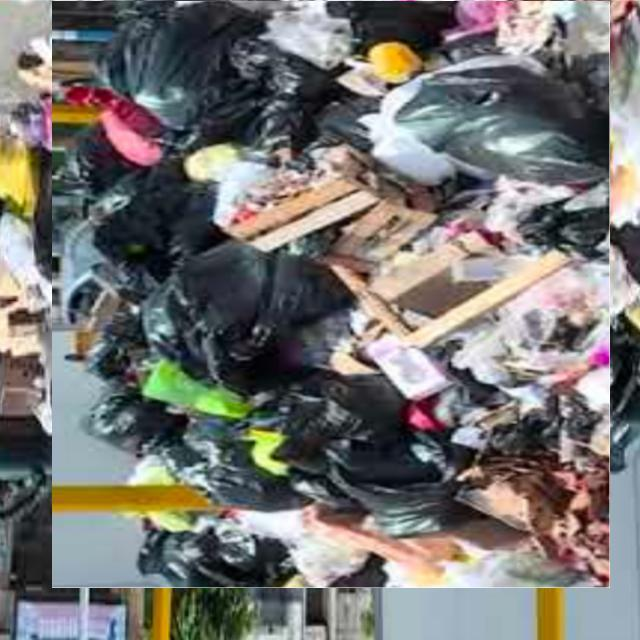Trashbag: (136, 239, 344, 395), (396, 65, 603, 192), (93, 5, 269, 135), (83, 154, 221, 272), (302, 431, 448, 528), (132, 520, 299, 599), (186, 433, 317, 518), (79, 387, 195, 482)
